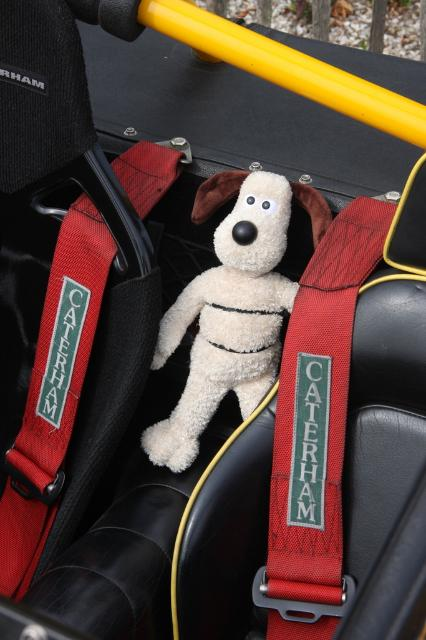Seatbelt: (0, 136, 182, 602), (248, 188, 400, 640)
